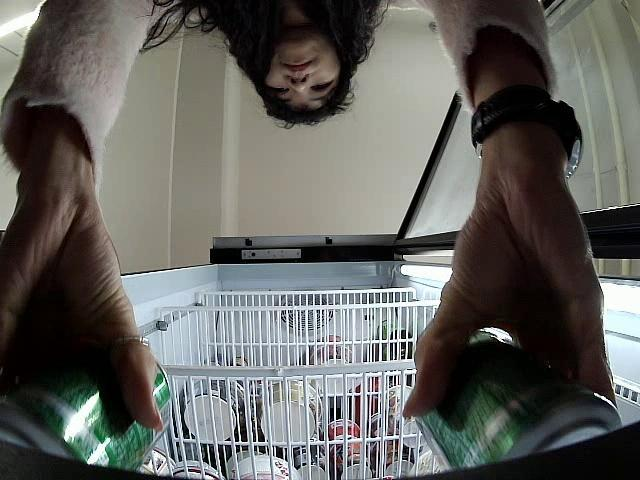12_chilsungCider: (414, 327, 624, 470), (0, 342, 173, 478)
